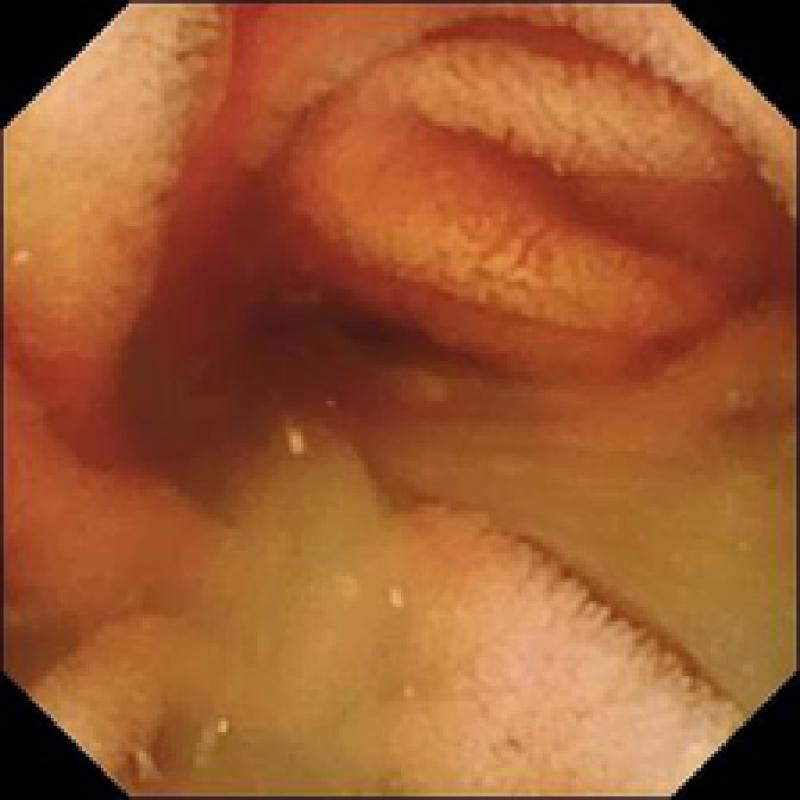bleeding: (11, 0, 793, 486)
